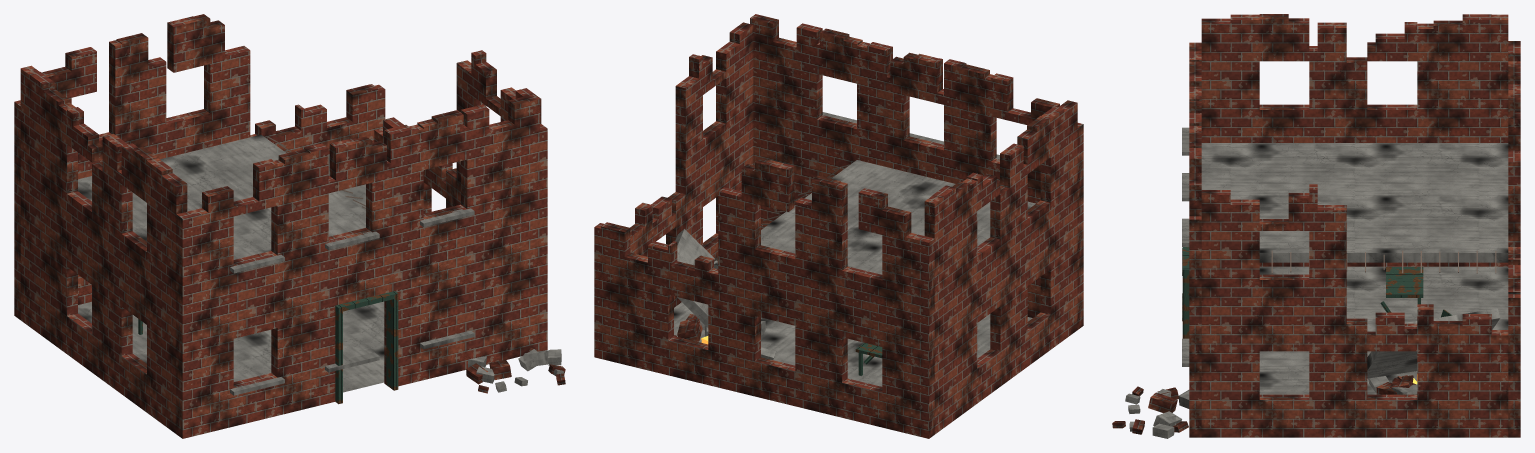
The model's file is house.glb.
3 views of the same model, side by side, from view 1: azimuth 30°, elevation 25°; view 2: azimuth 150°, elevation 25°; view 3: azimuth 270°, elevation 25° (orthographic). The views are drawn at different scales.
Parts seen in each view (by area): view 1: building; view 2: building; view 3: building.
Boxes of the visible parts, x1=… form: building: x1=14, y1=14, x2=565, y2=438; building: x1=594, y1=14, x2=1083, y2=438; building: x1=1112, y1=14, x2=1520, y2=438.
Size of the model in its own units: 10.09 by 6.83 by 9.86.
Materials: 5 (3 with a texture image).
